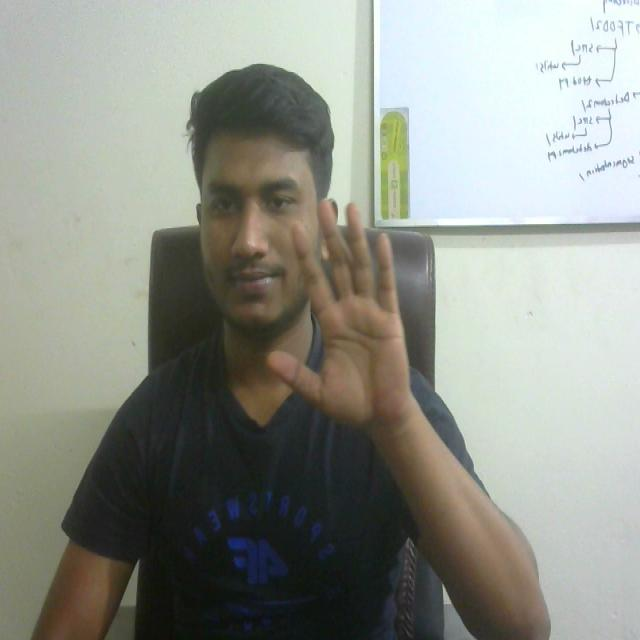A: (266, 189, 411, 436)
